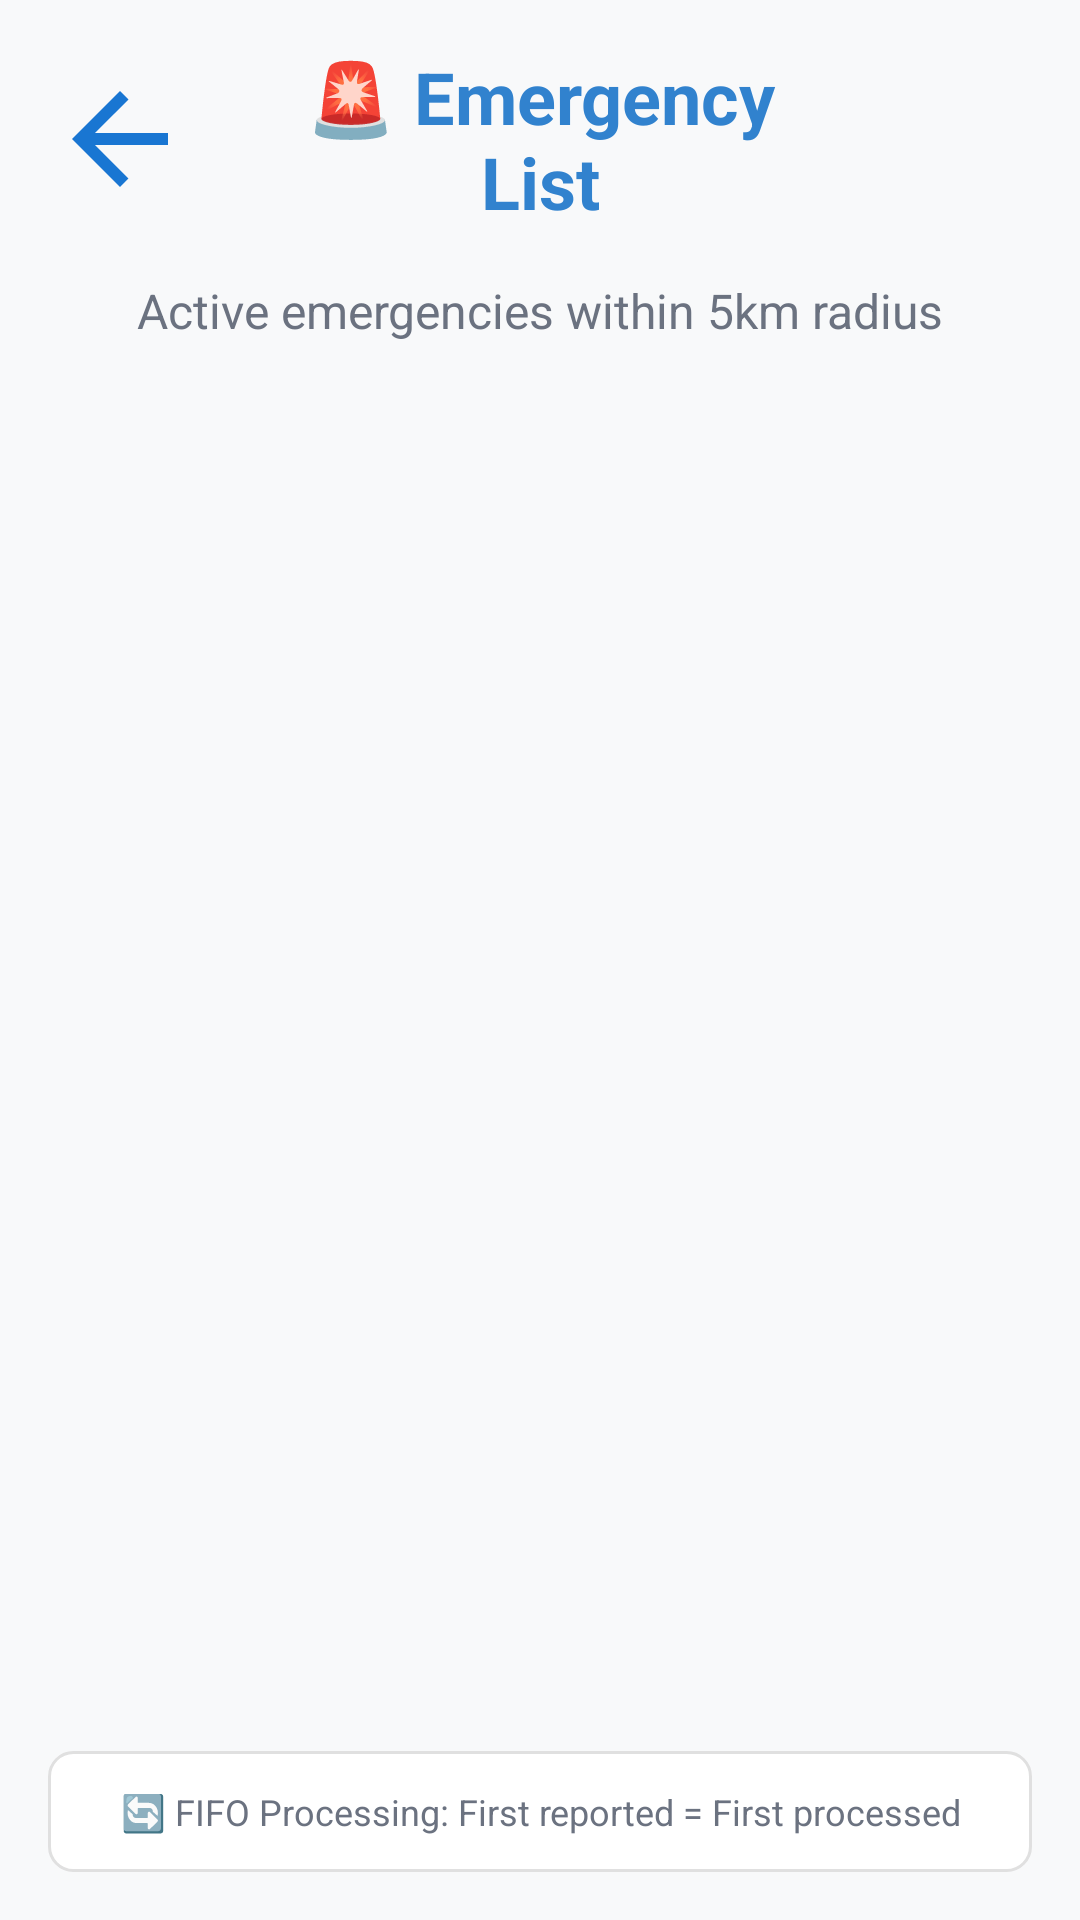

Screen size 1080px×1920px. Icon name, then its center in pixels as (x,y):
Back: (120,139)
